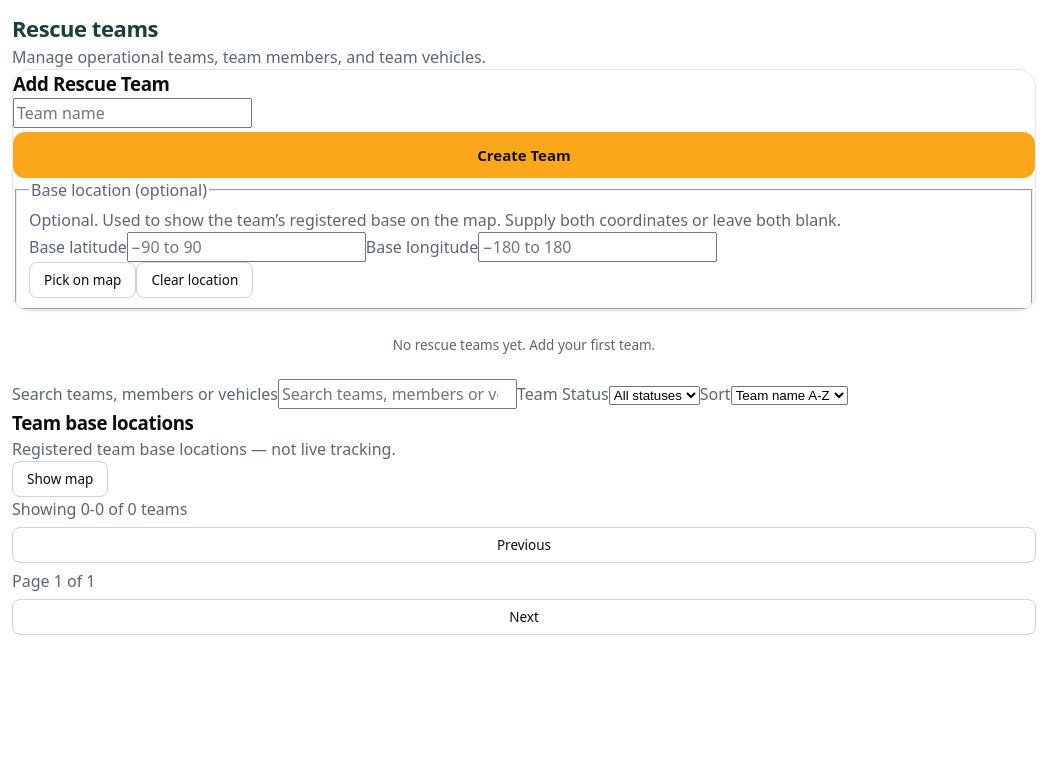
Test case: optional base coordinate inputs › creates a team with coordinates 7.29, 80.63
Type "Kandy" into the field labelled "Team name" at (132, 113), box [13,98,252,128]
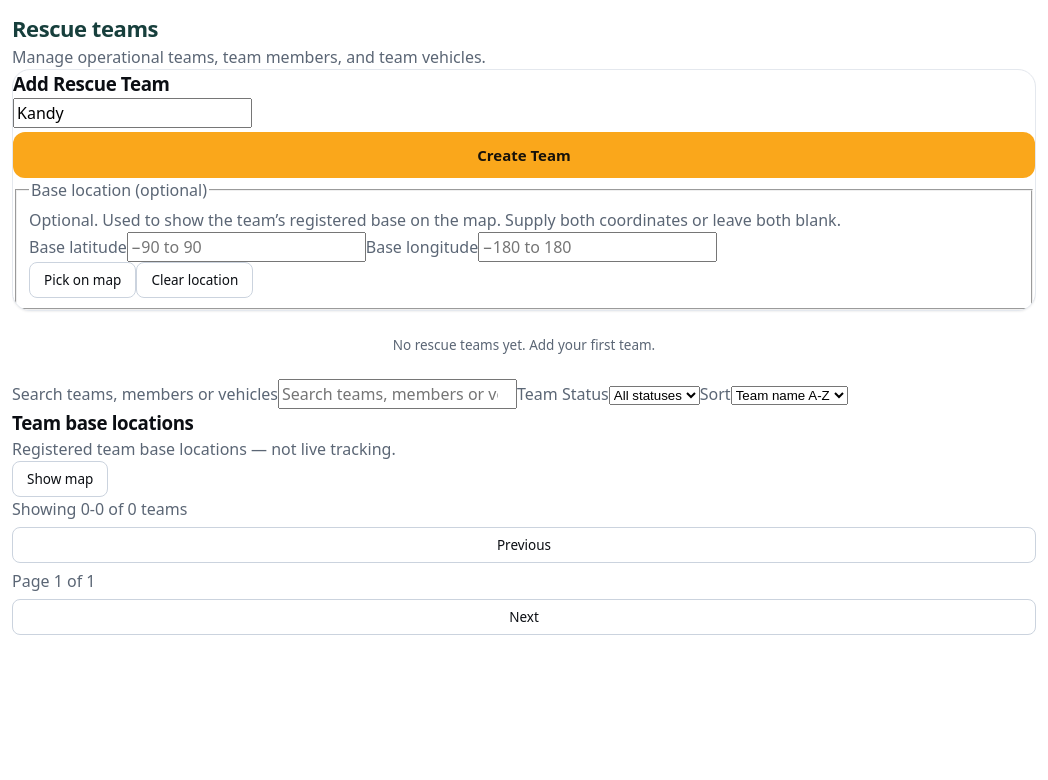
Type "7.29" into the field labelled "Base latitude" at (246, 247), box [127,232,366,262]
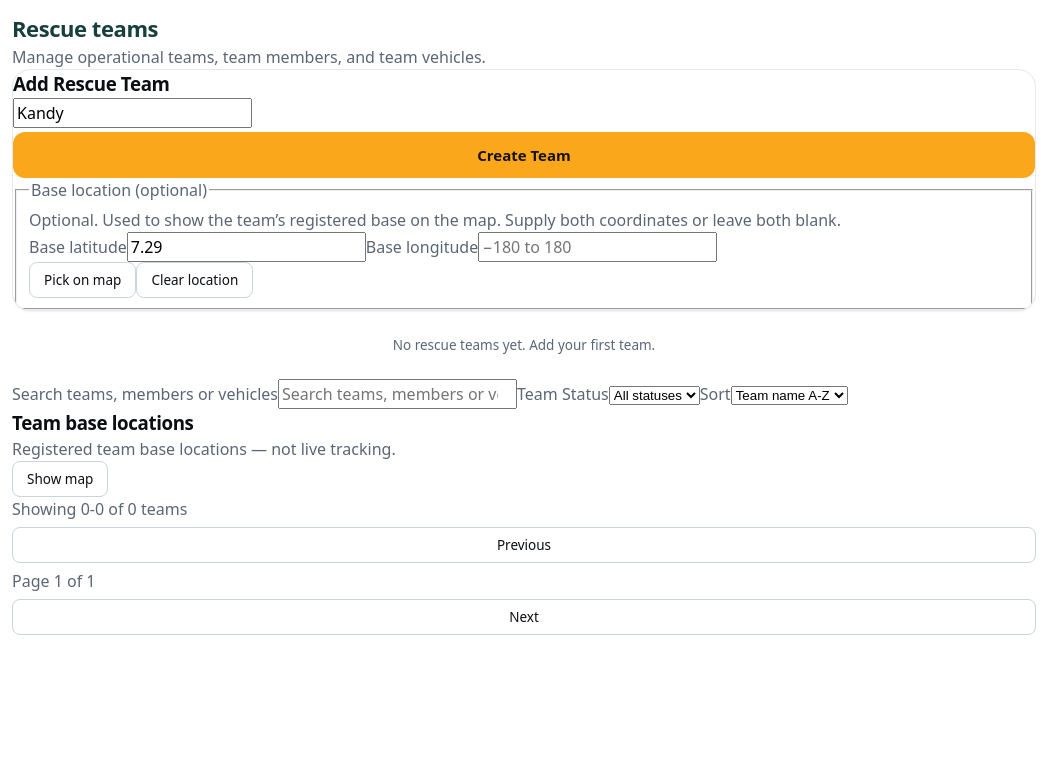
Type "80.63" into the field labelled "Base longitude" at (598, 247), box [478,232,717,262]
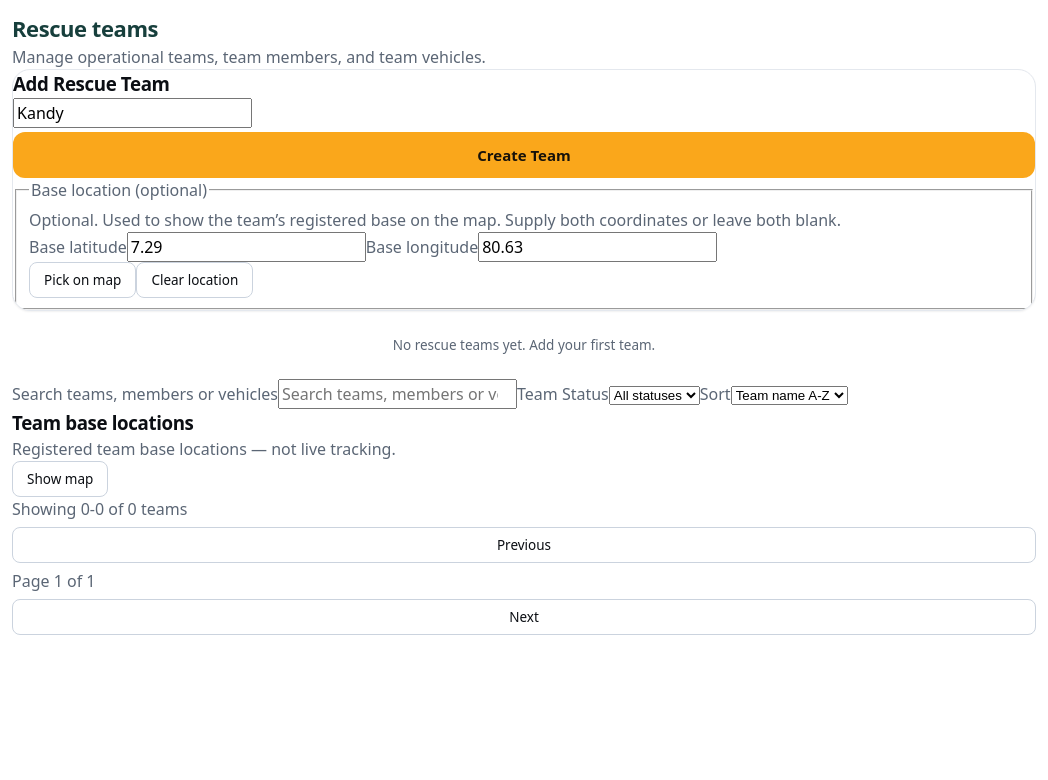
Submit the form "Create Team", box [12,69,1036,311]
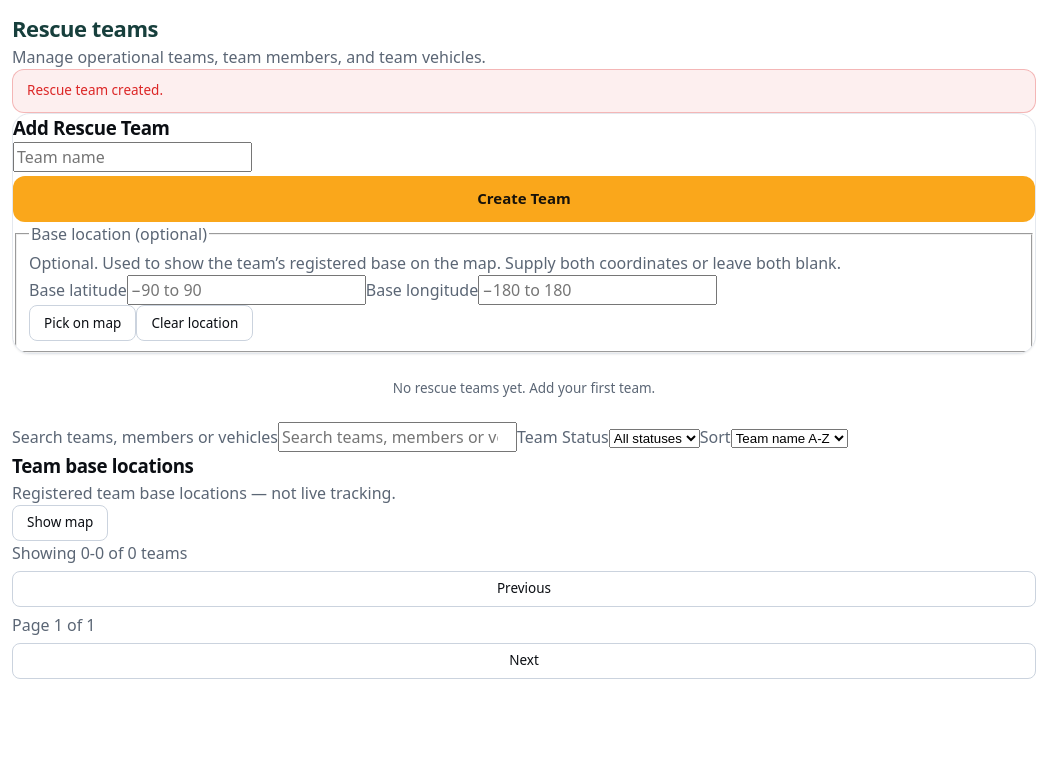
Expected: the text "Rescue team created." is shown, [12,69,1036,113]
